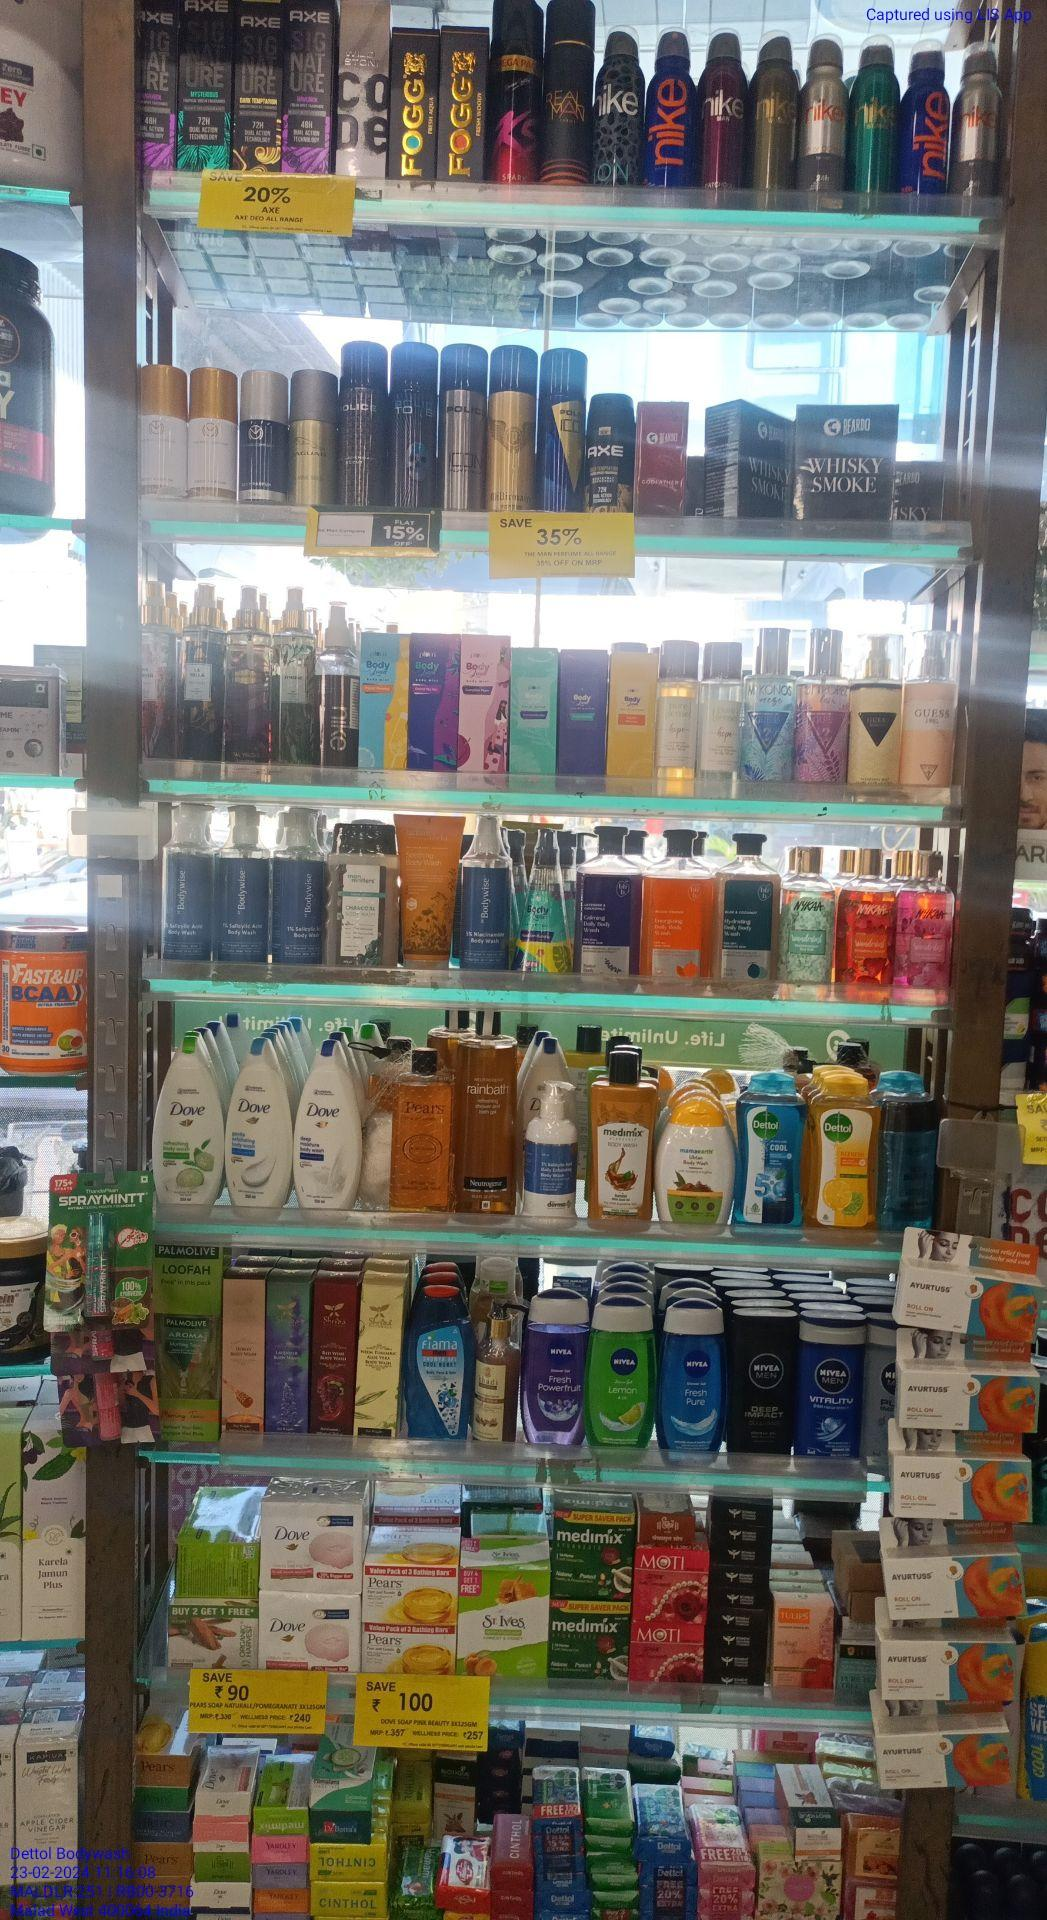Dettol_Bodywash_Cool: (740, 1077, 798, 1233)
Dettol_Bodywash_Refresh: (808, 1079, 881, 1243)
Dove_Deep_Moisture_Body_Wash_250ML: (291, 1038, 358, 1219)
Dove_Gentle_Exfoliating_Body_Wash_250ML: (219, 1030, 289, 1224)
Dove_Refreshing_Body_Wash_250ML: (155, 1041, 220, 1216)
Nivea_Shower_Gel_Fresh_Powerfruit_250ML: (525, 1296, 583, 1448)
Nivea_Shower_Gel_Lemon_and_Oil_250ML: (587, 1295, 656, 1456)
